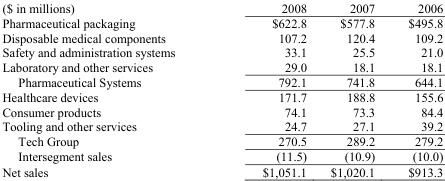table: (1, 0, 442, 178)
table column: (1, 0, 218, 178), (218, 0, 318, 178), (318, 0, 390, 178), (390, 0, 442, 178)
table column header: (1, 0, 442, 15)
table row: (1, 0, 442, 15), (1, 15, 442, 30), (1, 44, 442, 59), (1, 59, 442, 74), (1, 74, 442, 89), (1, 89, 442, 104), (1, 118, 442, 133), (1, 133, 442, 148), (1, 148, 442, 163), (1, 163, 442, 178), (1, 30, 442, 44), (1, 104, 442, 118)
